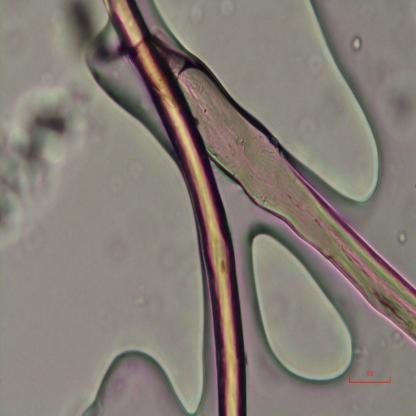Air bubble: (171, 0, 381, 202), (248, 231, 356, 389), (77, 346, 206, 416), (82, 29, 144, 133)
Background material: (0, 84, 83, 249), (375, 64, 416, 146), (54, 3, 94, 56), (350, 33, 362, 52), (396, 228, 408, 246)
Microfibre: (139, 38, 416, 342), (105, 0, 249, 416)
